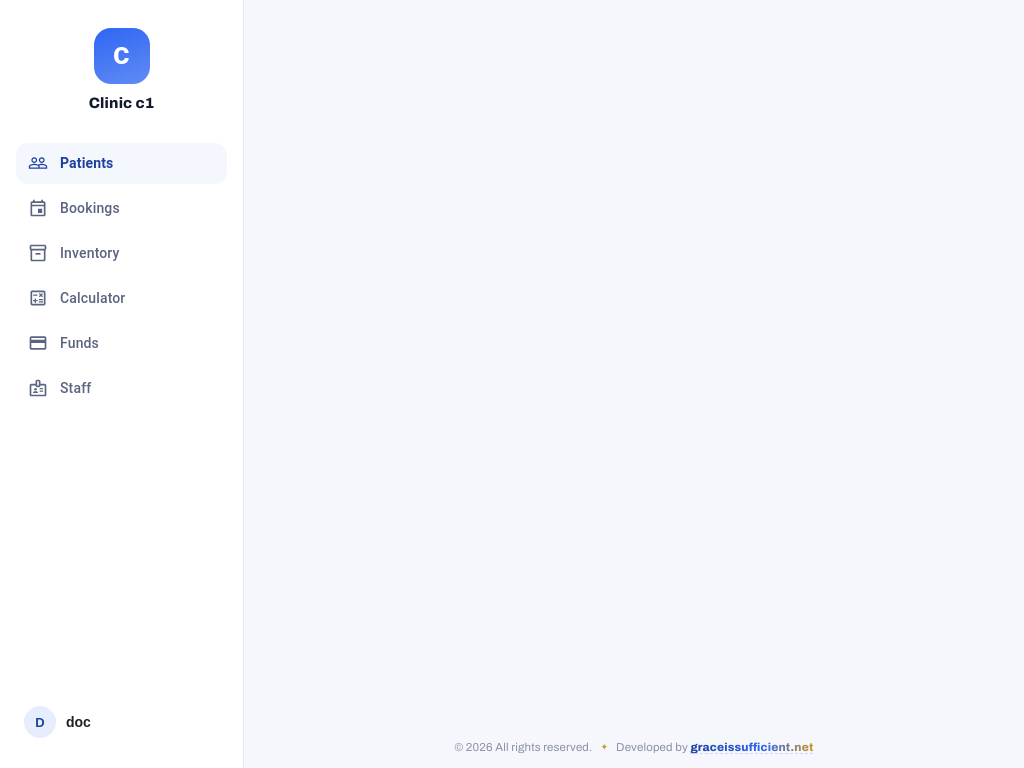
Test case: shows People to the clinic owner and navigates to it
Click the button with aria-label "account" at x=122, y=722, box [16,700,227,744]
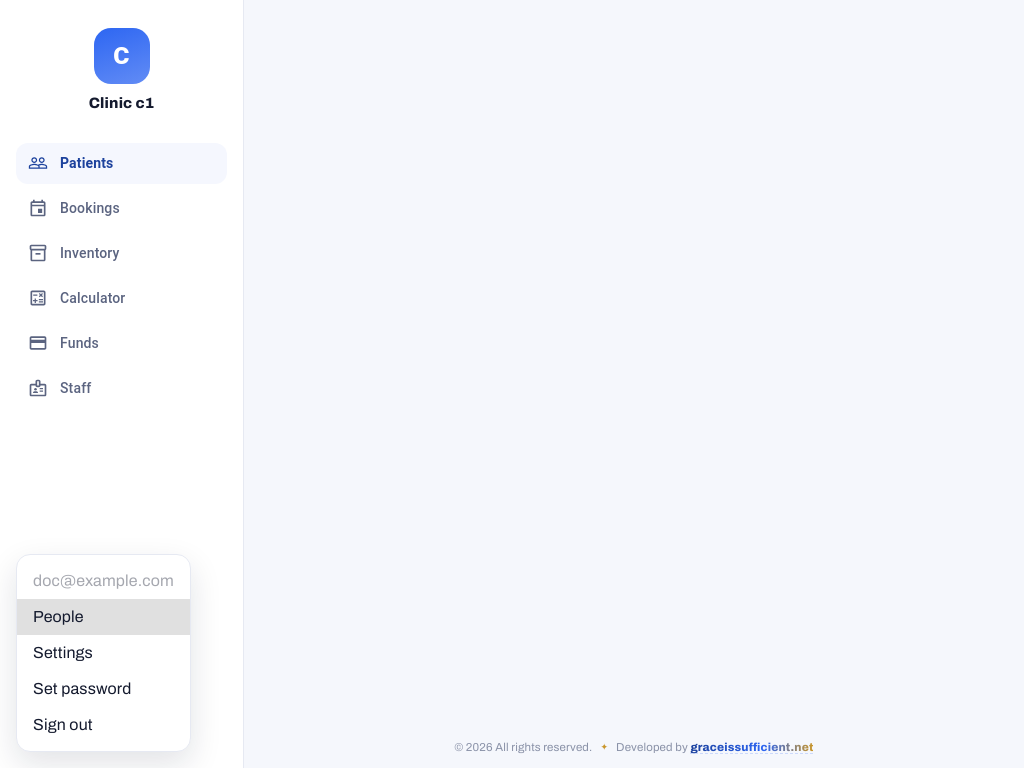
Click the menu item "People" at x=104, y=617, box [17,599,190,635]
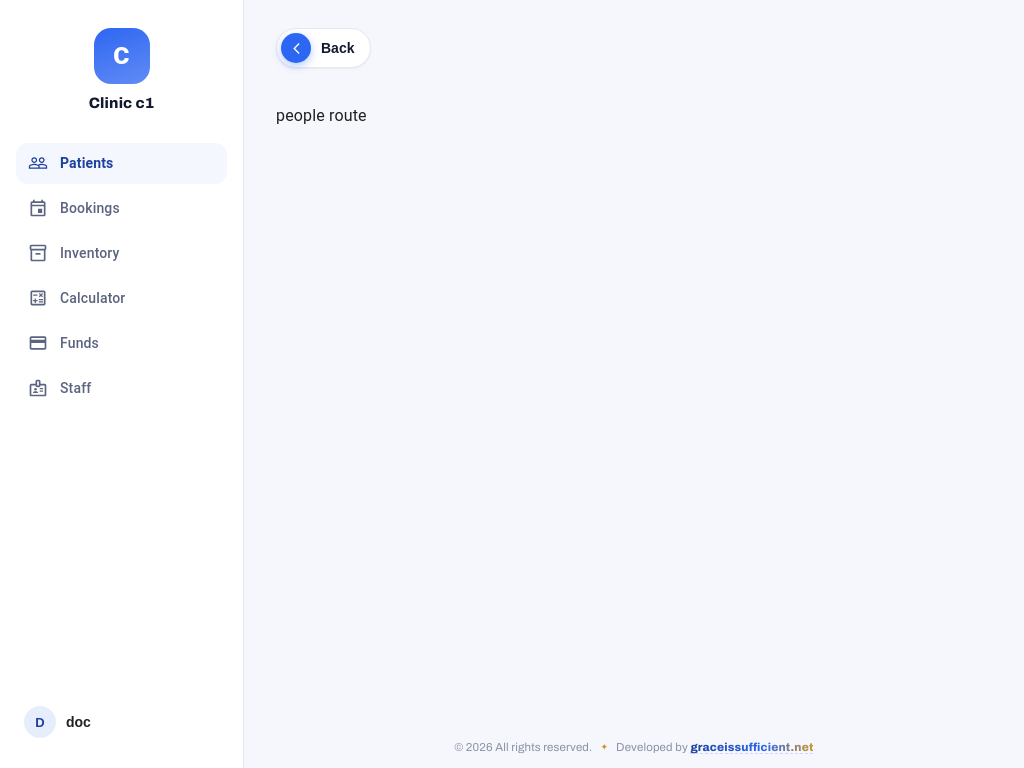
Expected: the text "people route" is shown, [276,106,367,125]
